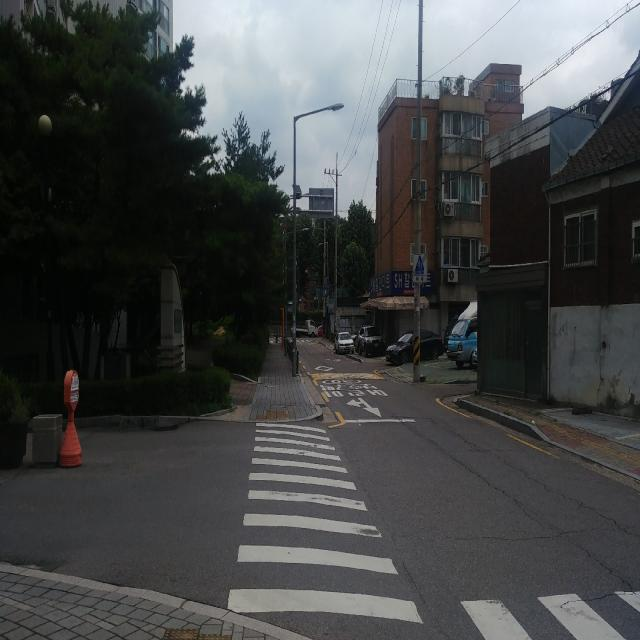횡단보도: (226, 419, 425, 626), (461, 583, 640, 640)
